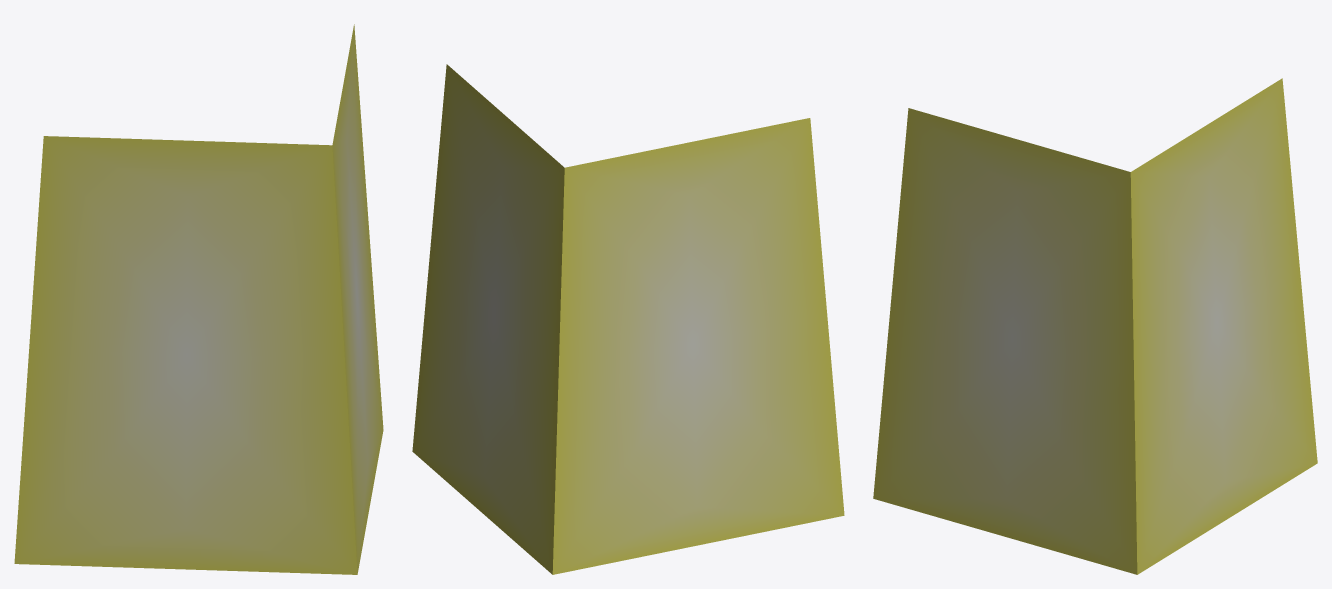
The model's file is LanternLightFrontRight_0.glb.
3 renders of one model, left to right at view 1: azimuth 30°, elevation 25°; view 2: azimuth 150°, elevation 25°; view 3: azimuth 270°, elevation 25°, orthographic. The views are drawn at different scales.
Parts seen in each view (by area): view 1: LanternLightFrontRight; view 2: LanternLightFrontRight; view 3: LanternLightFrontRight.
Boxes of the visible parts, <box> form: LanternLightFrontRight: <box>14,24,383,574</box>; LanternLightFrontRight: <box>412,64,844,574</box>; LanternLightFrontRight: <box>873,78,1317,574</box>.
Size of the model in its own units: 0.836 by 0.8052 by 0.836.
